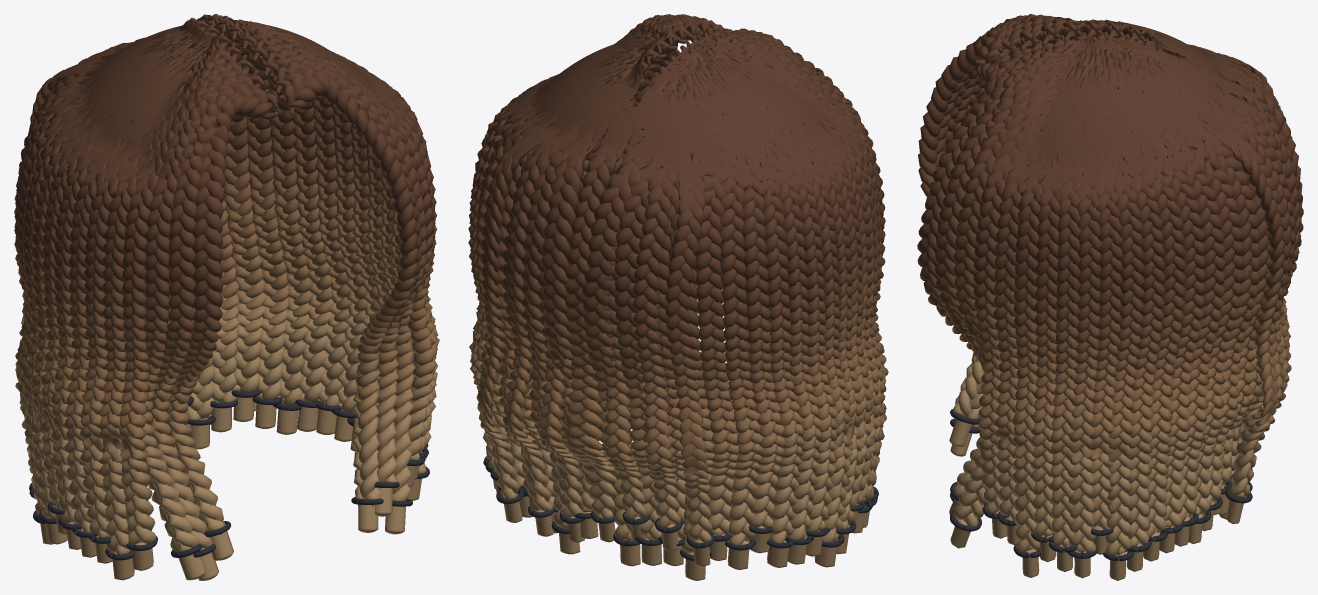
File: box-braids-pashmina-ombre.glb
3 views of the same model, side by side, from view 1: azimuth 30°, elevation 25°; view 2: azimuth 150°, elevation 25°; view 3: azimuth 270°, elevation 25° (orthographic). The views are drawn at different scales.
Parts seen in each view (by area): view 1: 226 hair / Hair / chestnut226.001, 226 hair / Hair / ties226.001; view 2: 226 hair / Hair / chestnut226.001, 226 hair / Hair / ties226.001; view 3: 226 hair / Hair / chestnut226.001, 226 hair / Hair / ties226.001.
Boxes of the visible parts, x1,y1,x2,y2 form: 226 hair / Hair / chestnut226.001: (14, 14, 439, 580); 226 hair / Hair / ties226.001: (29, 390, 429, 560); 226 hair / Hair / chestnut226.001: (468, 14, 888, 580); 226 hair / Hair / ties226.001: (483, 418, 878, 560); 226 hair / Hair / chestnut226.001: (917, 14, 1303, 580); 226 hair / Hair / ties226.001: (950, 409, 1252, 561).
Size of the model in its own units: 0.8774 by 1.08 by 0.7934.
